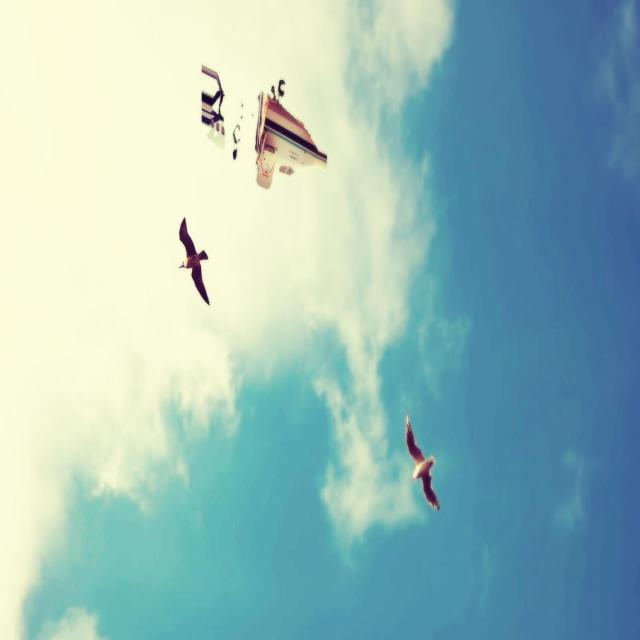airplane: (202, 65, 327, 189)
